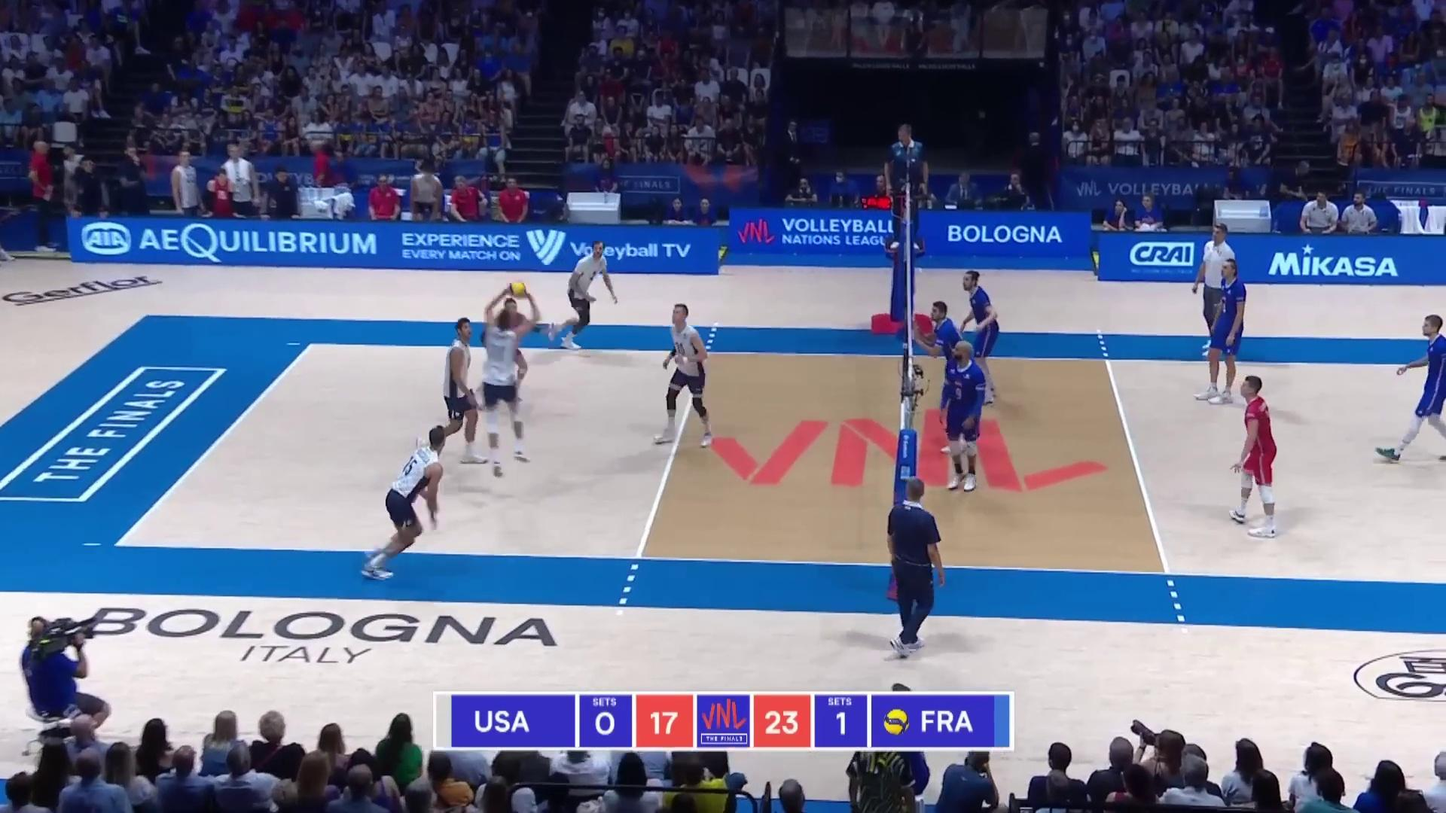player: (360, 425, 447, 583), (1373, 315, 1446, 465), (415, 316, 488, 464), (649, 304, 716, 447), (1223, 374, 1277, 539), (483, 306, 532, 475), (922, 301, 973, 454), (1195, 260, 1249, 404), (477, 285, 538, 409), (549, 243, 618, 349), (939, 341, 986, 493), (961, 267, 1001, 406)
refree: (886, 476, 944, 661), (882, 126, 926, 250)
